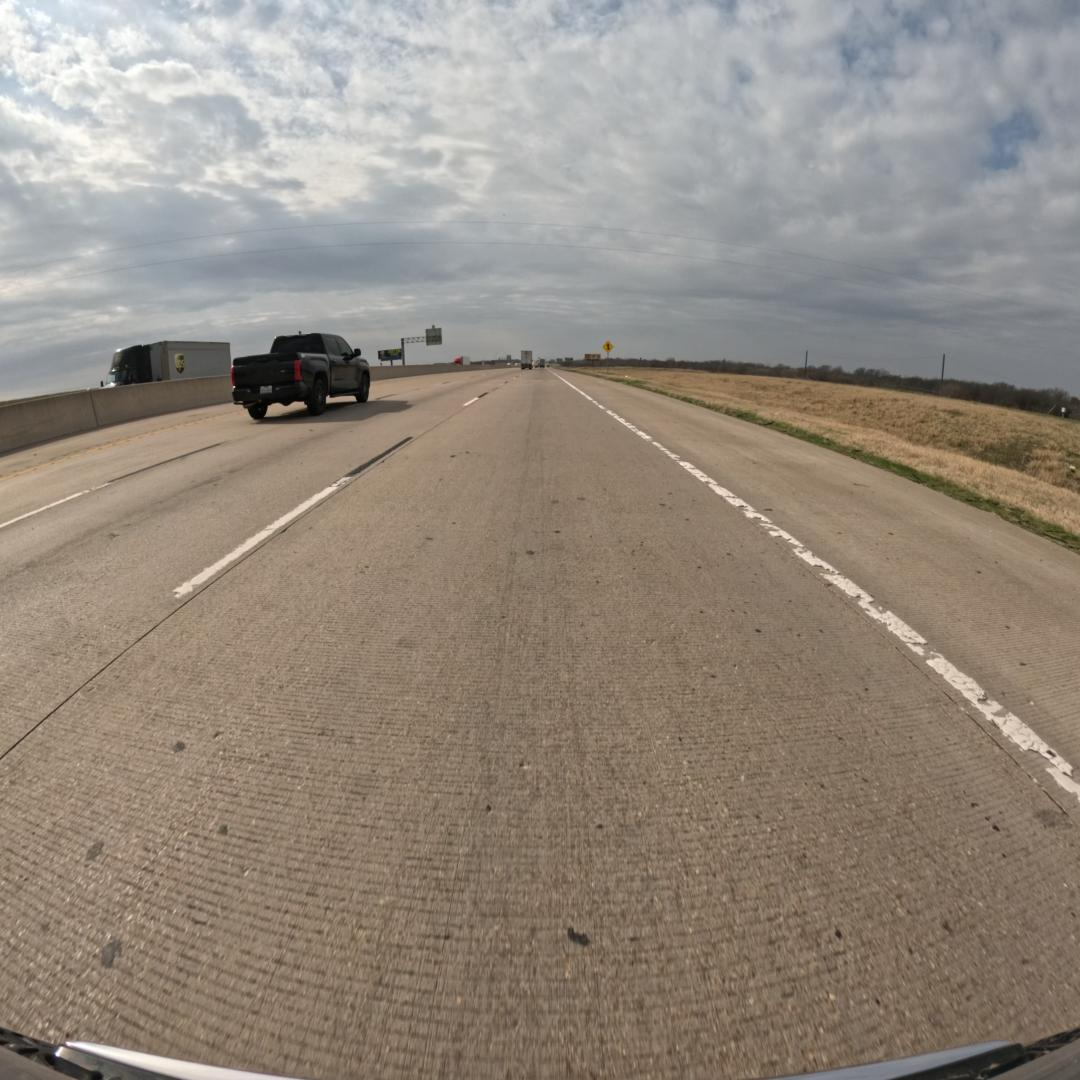lane0: (0, 375, 1080, 1077)
lane1: (0, 373, 510, 757)
